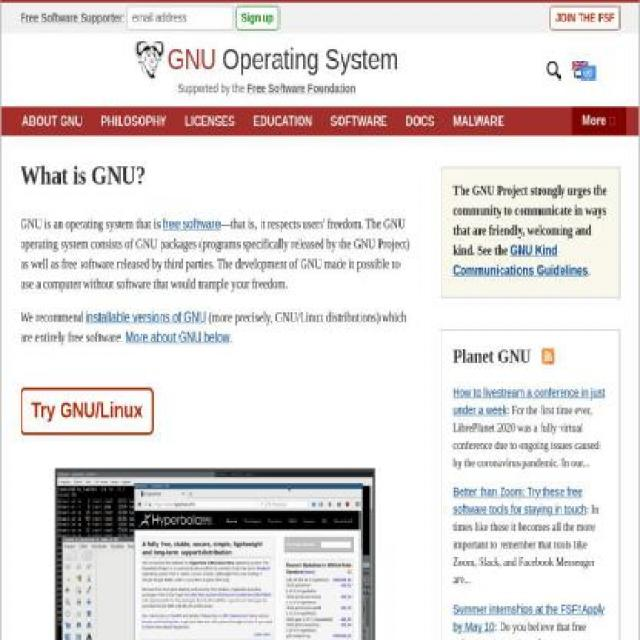button: (134, 40, 398, 74), (20, 388, 154, 435), (294, 138, 426, 165), (94, 108, 172, 135), (149, 138, 226, 165), (15, 108, 90, 135), (246, 108, 319, 135), (431, 138, 503, 165), (324, 108, 394, 135), (549, 6, 620, 31), (446, 108, 511, 135), (15, 138, 80, 165), (178, 108, 242, 135), (85, 138, 144, 165), (232, 138, 290, 165), (399, 108, 441, 135), (570, 58, 598, 82), (545, 58, 563, 82)
field: (127, 6, 235, 31), (236, 6, 278, 31)
